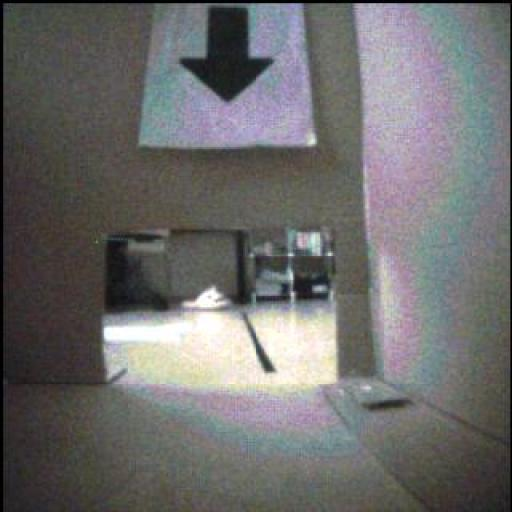arrow: (182, 7, 275, 102)
